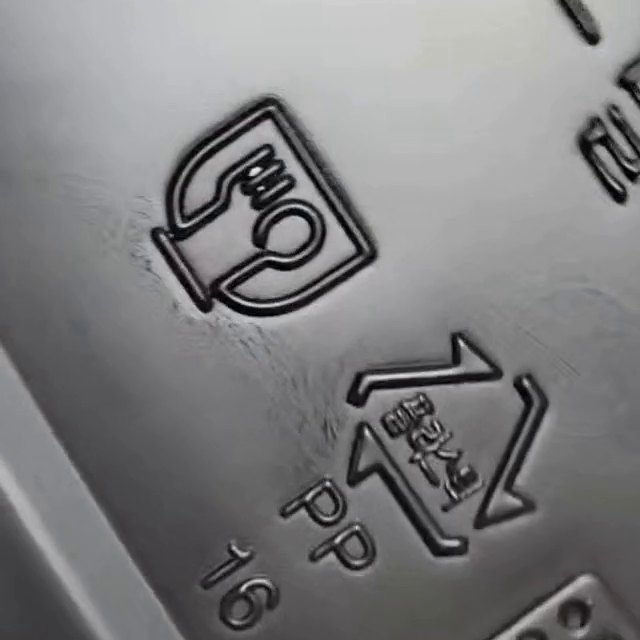Plastic: (344, 331, 550, 559)
